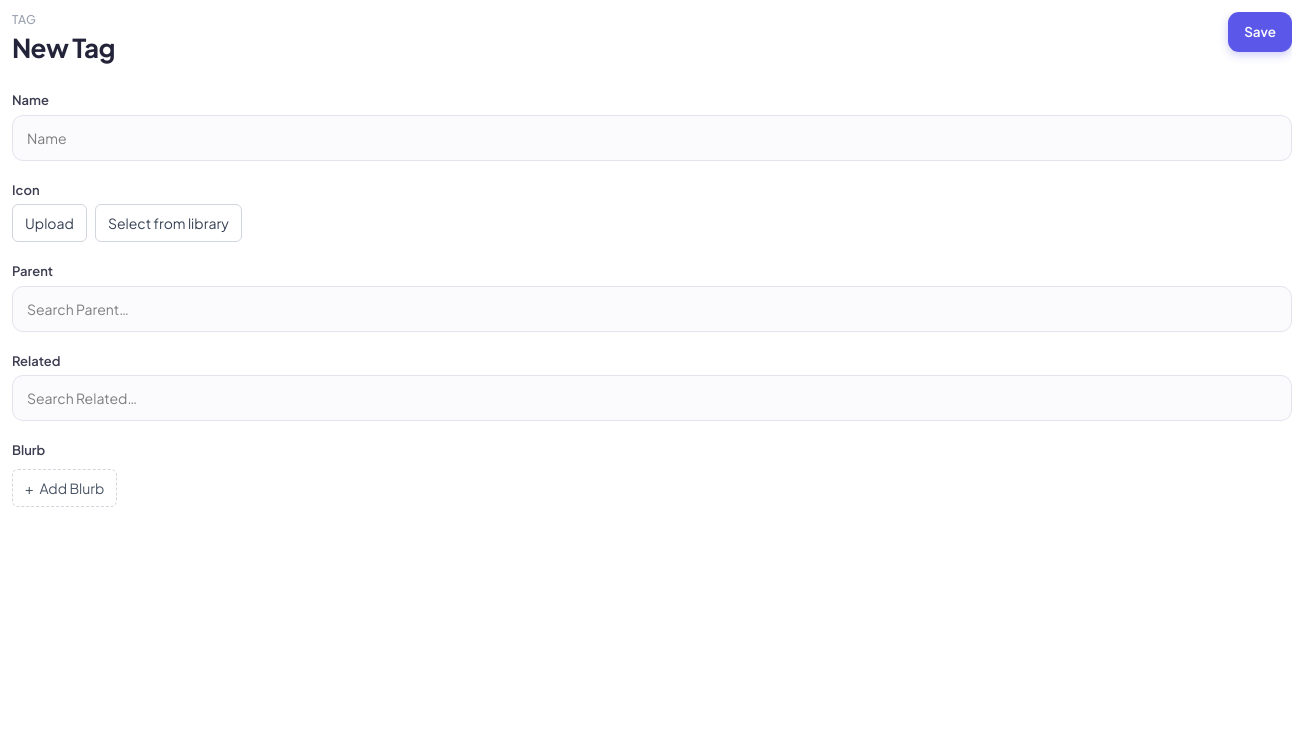
TaxonomyFormView › shows VALIDATION_ERROR details from a save: on the field, or in the banner for a paragraph path
Click the button "Save".
click(1260, 32)  # box [1228, 12, 1292, 52]
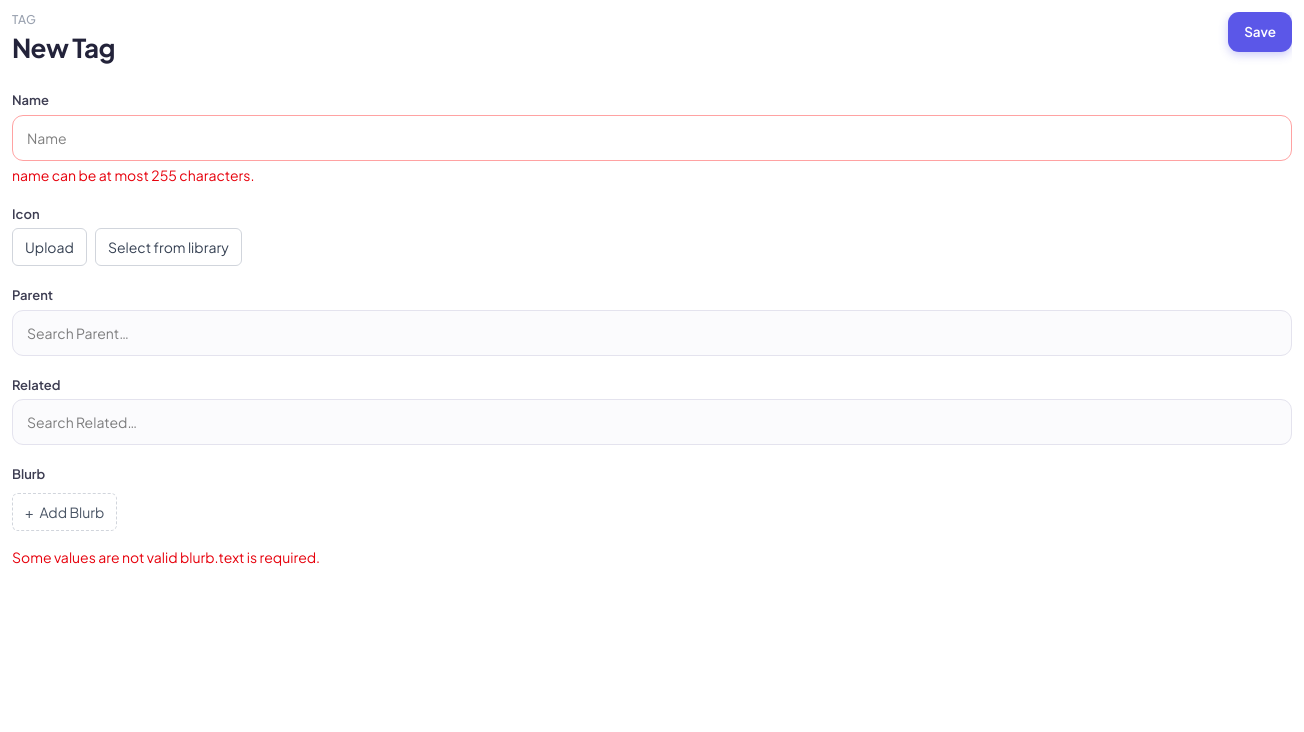
Expected: the message "name can be at most 255 characters." is shown, [12, 166, 254, 184]
Expected: the message "Some values are not valid blurb.text is required." is shown, [12, 548, 320, 566]
